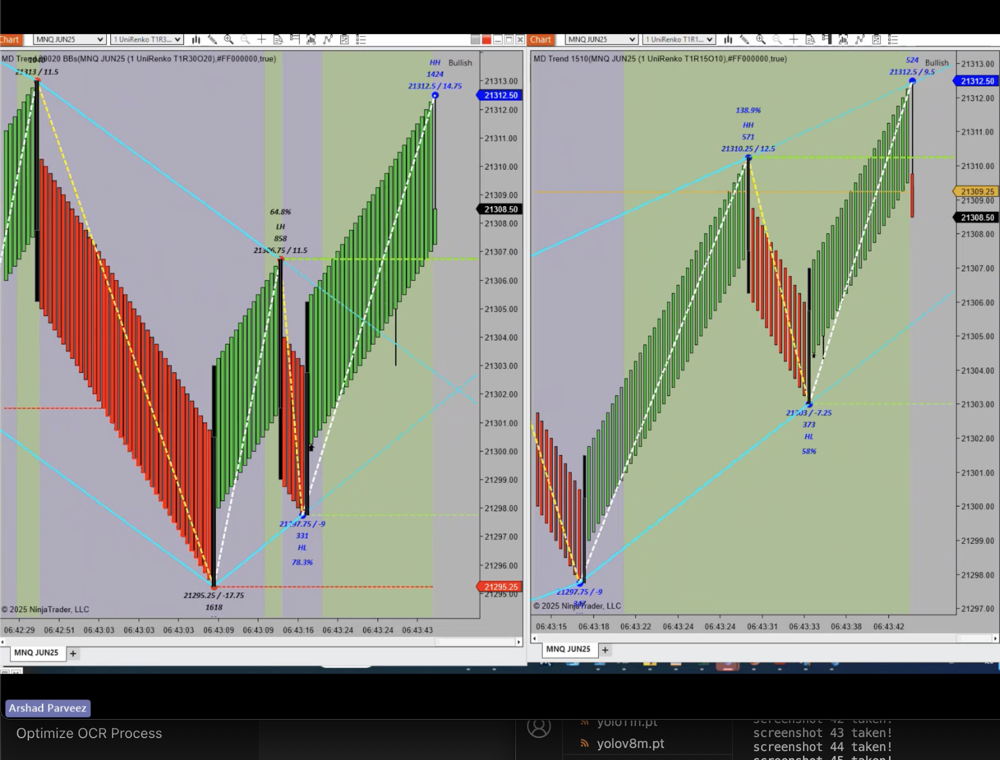HH: (424, 52, 448, 73), (737, 117, 761, 135)
HL: (290, 539, 314, 556), (802, 429, 820, 445)
LH: (270, 218, 293, 235)
